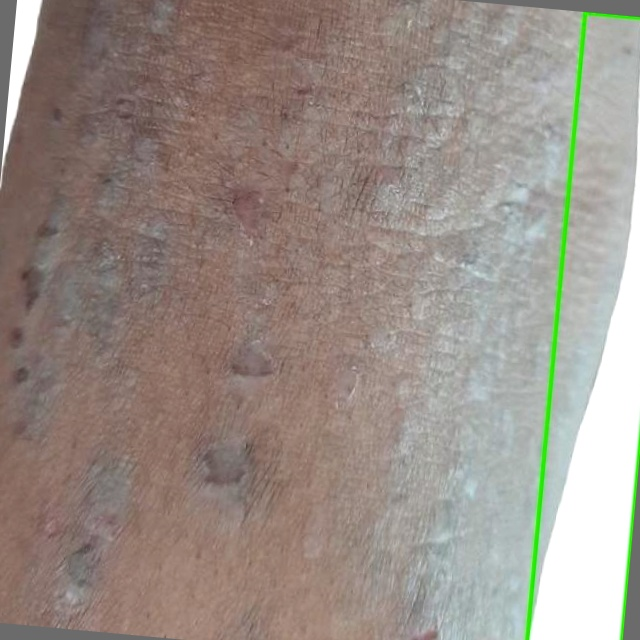Atopic Dermatitis: (527, 12, 639, 639)
